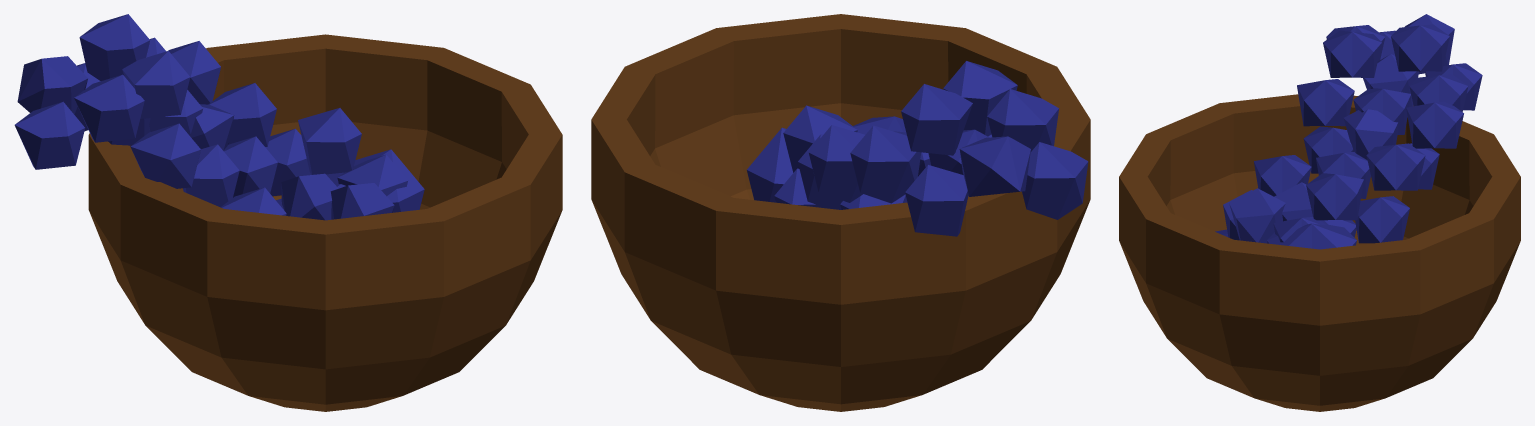
Rendered from FruteraLobby.fbx.
3 renders of one model, left to right at view 1: azimuth 30°, elevation 25°; view 2: azimuth 150°, elevation 25°; view 3: azimuth 270°, elevation 25°, orthographic. The views are drawn at different scales.
Parts seen in each view (by area): view 1: Cube.025; view 2: Cube.025; view 3: Cube.025.
Part boxes in pixels (x1,y1,x2,y2): Cube.025: (14, 14, 562, 411); Cube.025: (591, 14, 1090, 411); Cube.025: (1119, 14, 1520, 411).
Bounding box in the file's own units: 136 × 101 × 119.
